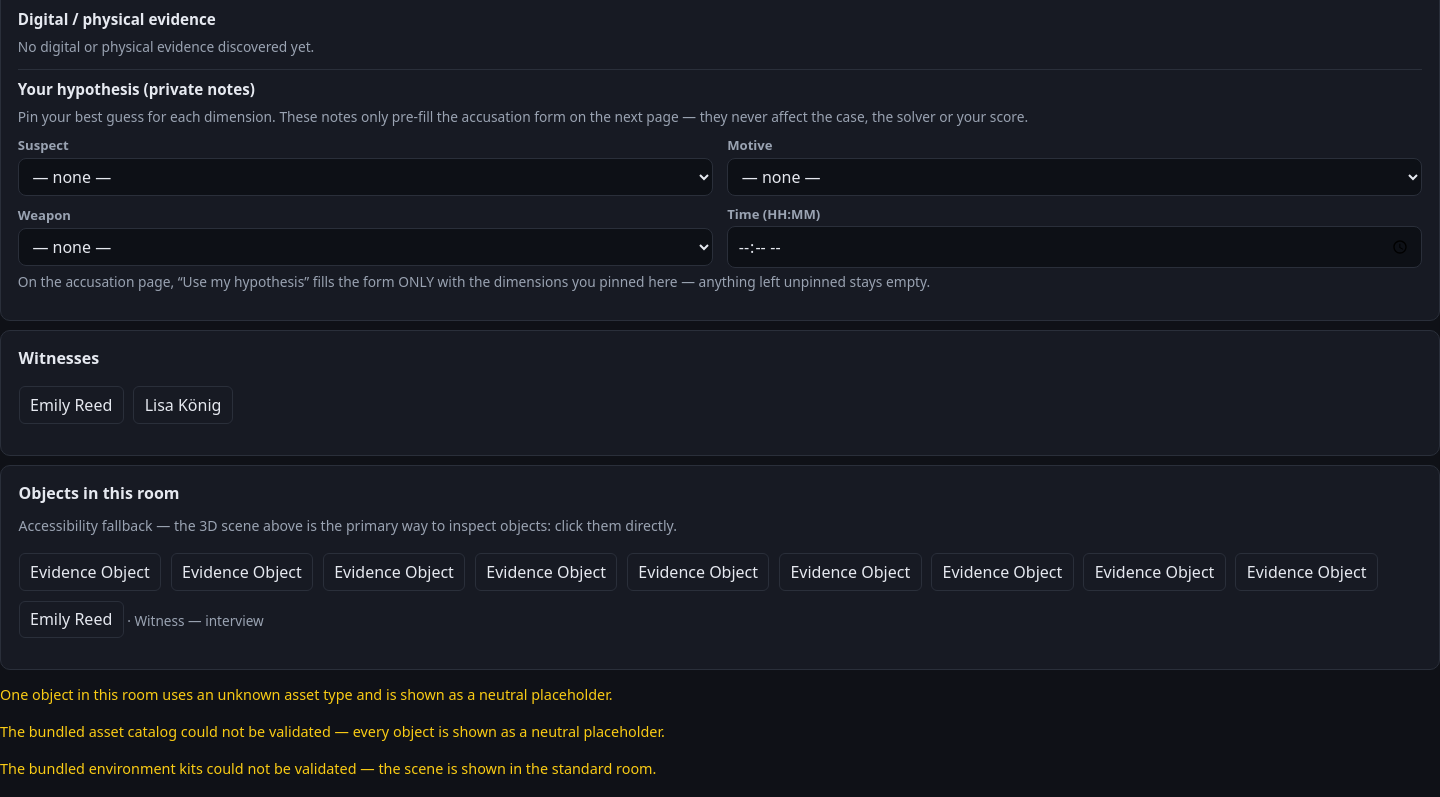
Scenario: Phase 23 — interview question flow on /scene › a NEUTRAL answer renders cleanly: no evidence panel, no discovery strip, no notebook line
(page scrolled)
Click the button "Emily Reed" below "Witnesses".
click(71, 405)  # box [19,386,124,424]
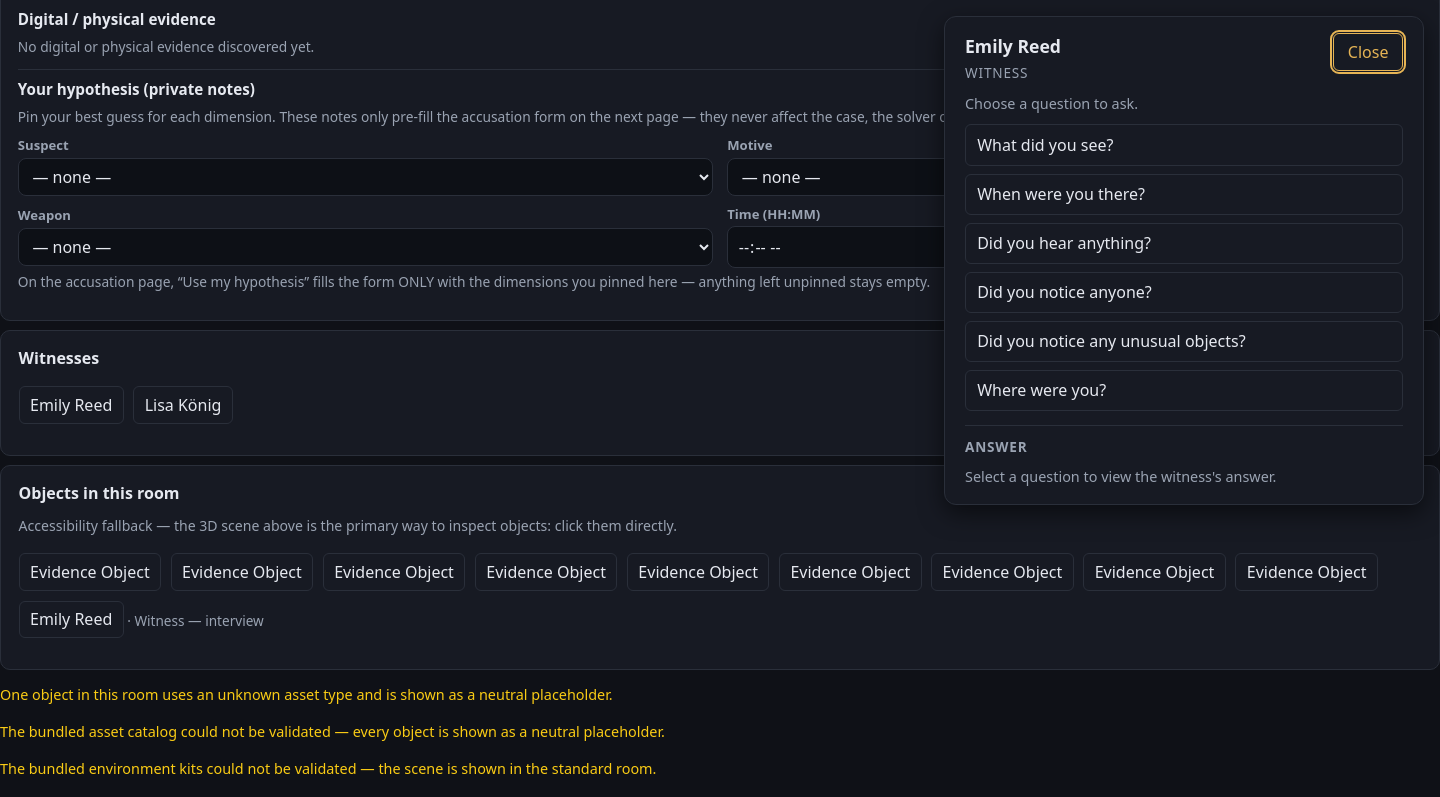
Click the button with test id "witness-question-SOUND".
click(1064, 243)  # box [965,223,1403,264]
(page scrolled)
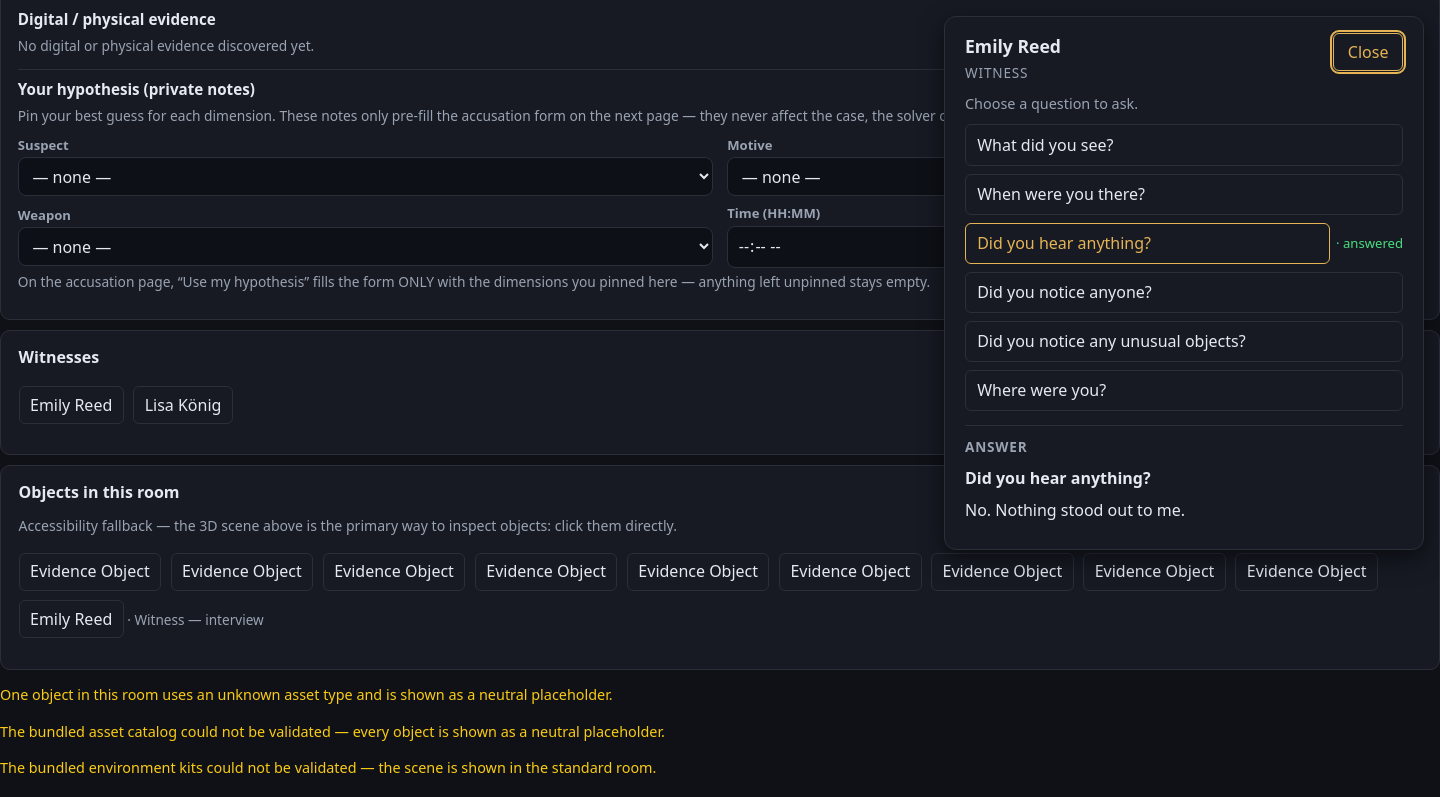
Expected: the text with test id "witness-statement-summary" reads "No. Nothing stood out to me.", [965,499,1185,521]
